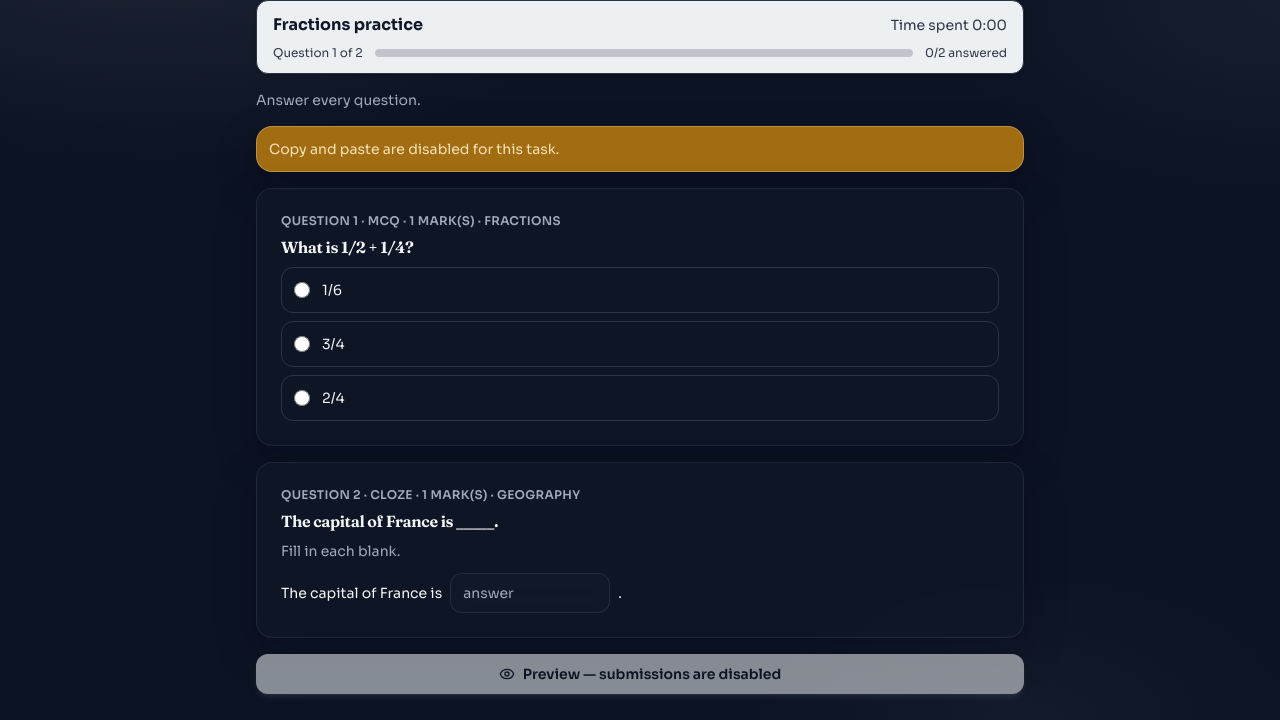
Test: AttemptView › lets the student answer an mcq question
Click the radio button labelled "3/4": click(302, 344) [294, 336, 310, 352]
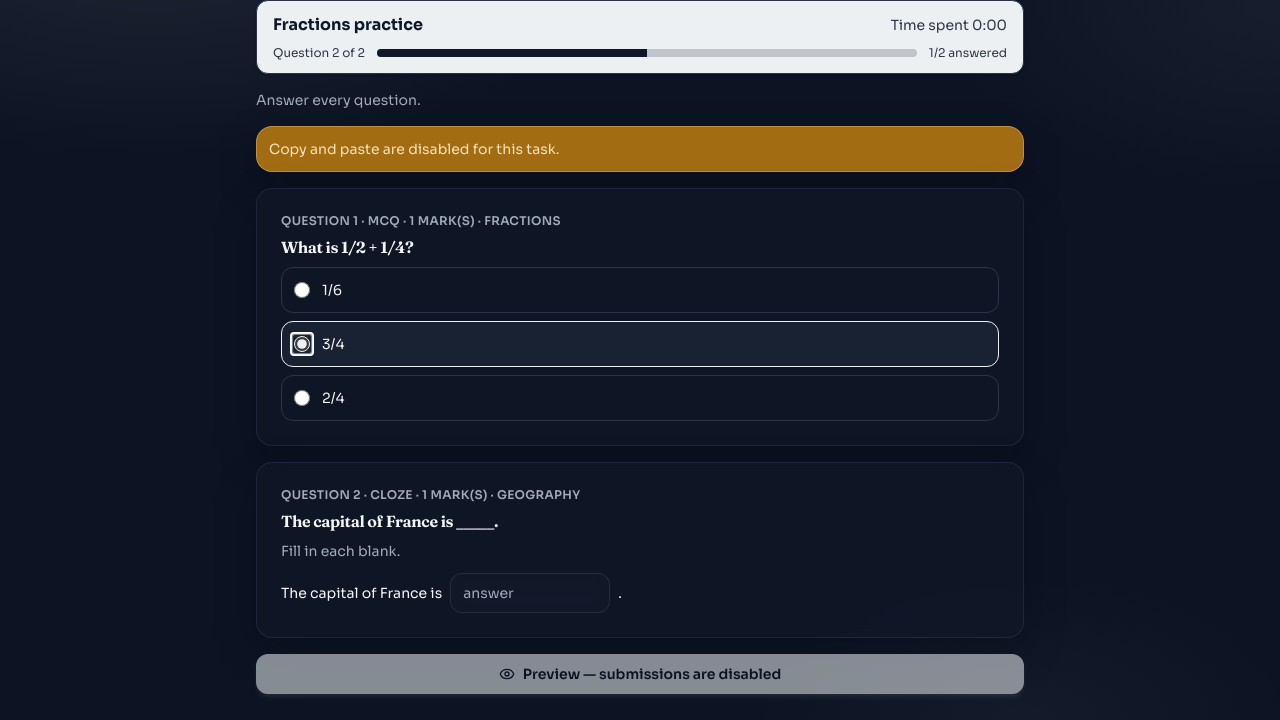
Check: the radio button labelled "3/4" is checked, box [294, 336, 310, 352]
Check: the text "1/2 answered" is shown, box [929, 45, 1007, 61]
